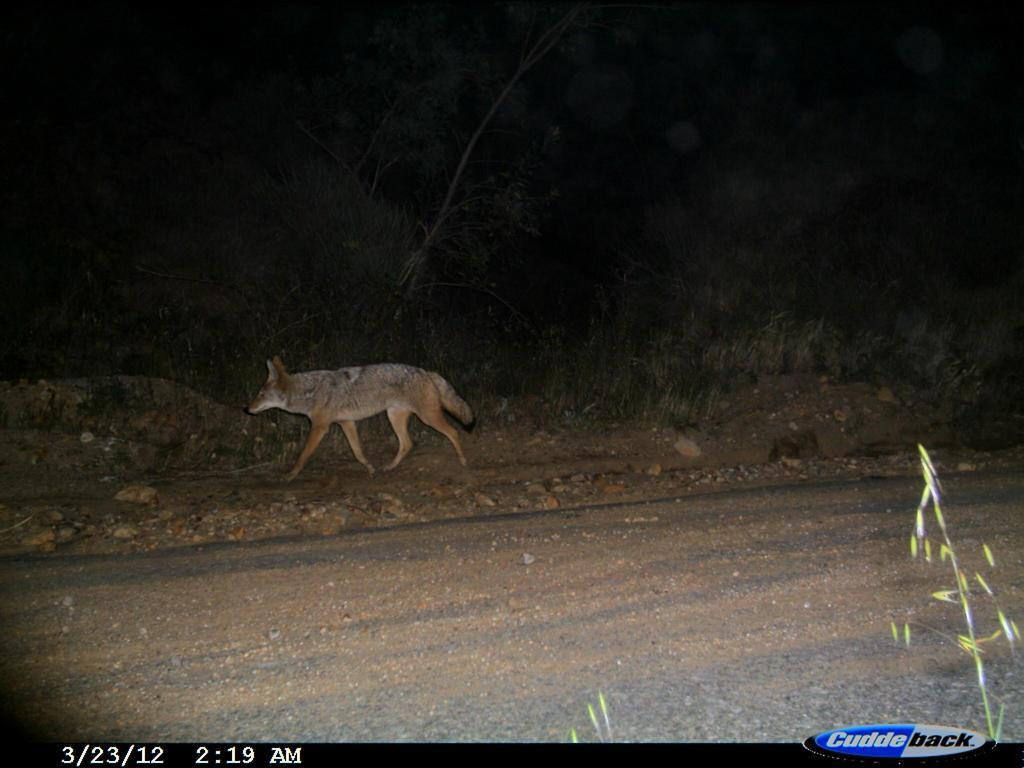coyote: (242, 349, 481, 478)
